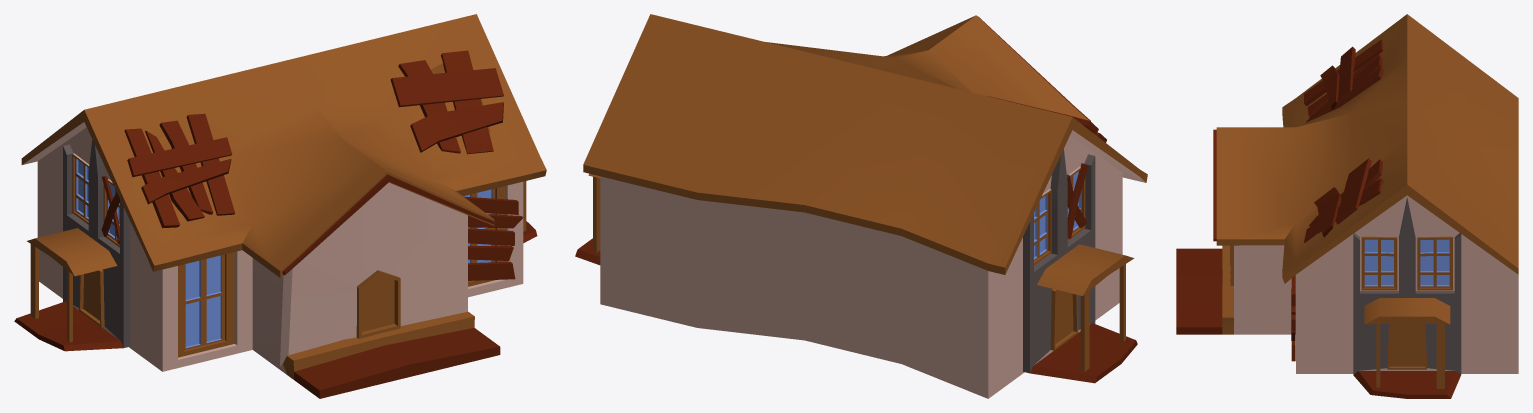
Rendered from Main character house.fbx.
3 renders of one model, left to right at view 1: azimuth 30°, elevation 25°; view 2: azimuth 150°, elevation 25°; view 3: azimuth 270°, elevation 25°, orthographic. The views are drawn at different scales.
Parts seen in each view (by area): view 1: Cube; view 2: Cube; view 3: Cube.
Part boxes in pixels (x1,y1,x2,y2): Cube: (14, 14, 546, 398); Cube: (575, 14, 1147, 398); Cube: (1176, 14, 1518, 398).
Size of the model in its own units: 1608 by 700 by 1106.
